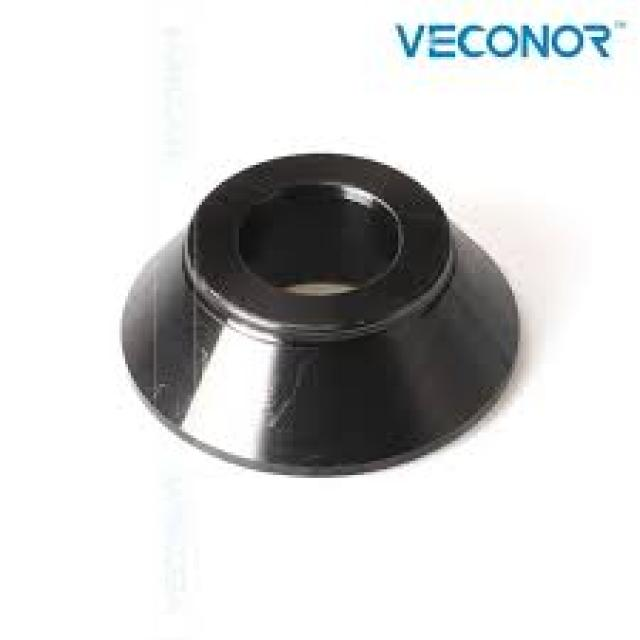Turning: (96, 109, 558, 514)
